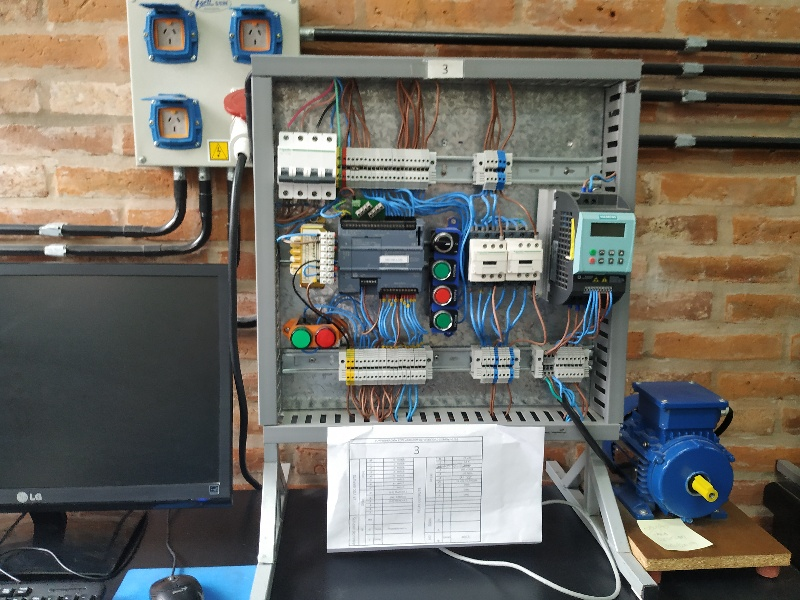Tablero 3: (265, 64, 638, 438)
